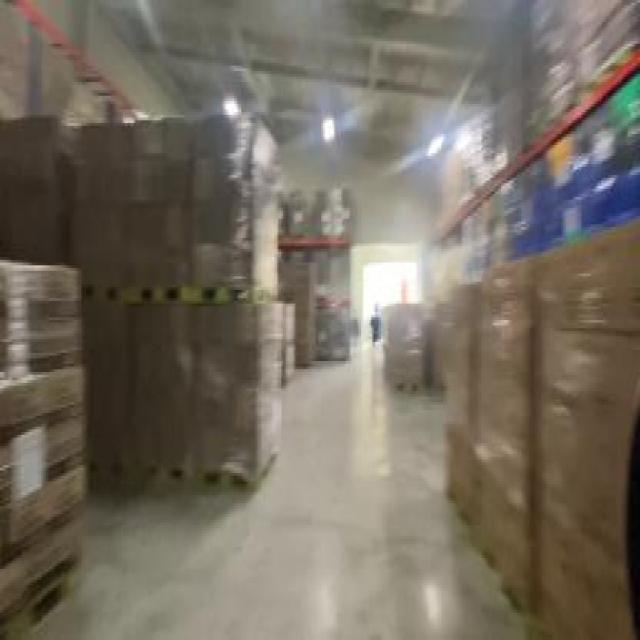box: (2, 96, 283, 490), (446, 232, 637, 638), (2, 263, 92, 637), (563, 71, 639, 230), (378, 290, 428, 405), (514, 142, 564, 249), (275, 257, 317, 367), (472, 186, 514, 265), (423, 290, 451, 394), (263, 186, 306, 241), (310, 181, 352, 235), (314, 309, 348, 361)
person: (368, 301, 380, 358)
